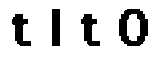0: (115, 6, 151, 51)
l: (43, 5, 66, 48)
t: (72, 10, 105, 52), (8, 7, 35, 54)
